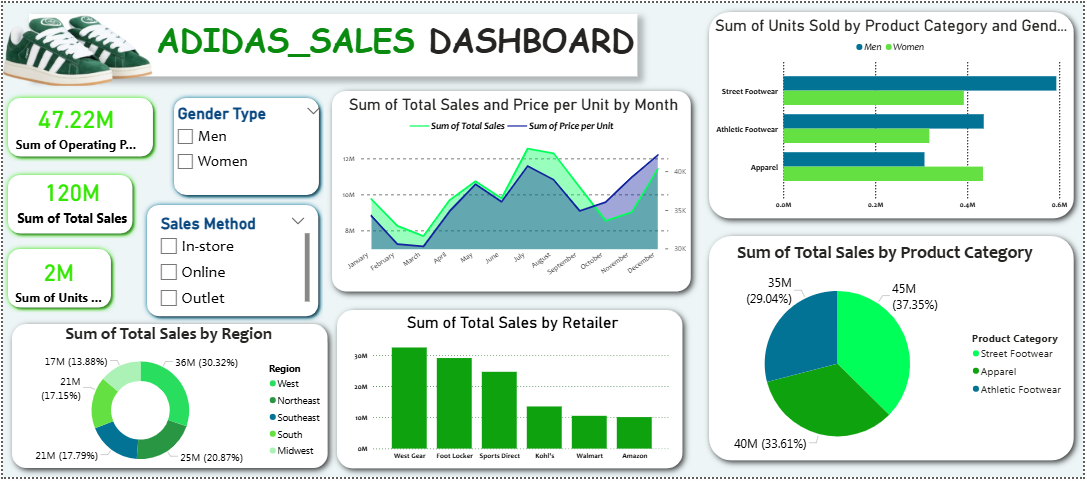

This screenshot's page, from the dashboard's own definition file:
{"tool":"powerbi","page":{"name":"Page 1","canvas":[1800,790],"ordinal":0},"visuals":[{"type":"textbox","box":[44,18,1014,104],"z":0},{"type":"shape","box":[534,132,628,364],"z":1000},{"type":"shape","box":[0,520,556,270],"z":2000},{"type":"shape","box":[1162,374,638,404],"z":3000},{"type":"shape","box":[542,496,606,294],"z":4000},{"type":"shape","box":[1162,0,638,374],"z":5000},{"type":"image","box":[0,0,250,154],"z":6000},{"type":"areaChart","title":"Sum of Total Sales and Price per Unit by Month","fields":{"Category":["Adidas_Sales.Invoice Date.Variation.Date Hierarchy.Month"],"Y":["Sum(Adidas_Sales.Total Sales)"],"Y2":["Sum(Adidas_Sales.Price per Unit)"]},"box":[556,154,588,320],"z":7000},{"type":"pieChart","fields":{"Category":["Adidas_Sales.Product Category"],"Y":["Sum(Adidas_Sales.Total Sales)"]},"box":[1162,396,616,378],"z":8000},{"type":"clusteredColumnChart","fields":{"Category":["Adidas_Sales.Retailer"],"Y":["Sum(Adidas_Sales.Total Sales)"]},"box":[580,516,538,254],"z":9000},{"type":"donutChart","fields":{"Y":["Sum(Adidas_Sales.Total Sales)"],"Category":["Adidas_Sales.Region"]},"box":[10,534,532,256],"z":10000},{"type":"clusteredBarChart","fields":{"Category":["Adidas_Sales.Product Category"],"Y":["Sum(Adidas_Sales.Units Sold)"],"Series":["Adidas_Sales.Gender Type"]},"box":[1182,22,598,330],"z":11000},{"type":"shape","box":[0,150,258,114],"z":12000},{"type":"shape","box":[0,278,224,114],"z":13000},{"type":"shape","box":[0,402,188,114],"z":14000},{"type":"card","fields":{"Values":["Sum(Adidas_Sales.Total Sales)"]},"box":[0,278,230,98],"z":15000},{"type":"card","fields":{"Values":["Sum(Adidas_Sales.Units Sold)"]},"box":[12,414,162,92],"z":16000},{"type":"card","fields":{"Values":["Sum(Adidas_Sales.Operating Profit)"]},"box":[12,150,220,106],"z":17000},{"type":"shape","box":[276,150,258,178],"z":18000},{"type":"slicer","fields":{"Values":["Adidas_Sales.Gender Type"]},"box":[278.3,163.3,263.3,150],"z":19000},{"type":"shape","box":[232,328,302,202],"z":20000},{"type":"slicer","fields":{"Values":["Adidas_Sales.Sales Method"]},"box":[250,346,266,168],"z":21000}]}

Visuals, with their boxes in screenshot pixels (x1, y1, x2, y2), scaled from the page's 1800x790 canvas onto the 1087x481 screenshot:
textbox: [x1=27, y1=11, x2=639, y2=74]
shape: [x1=322, y1=80, x2=702, y2=302]
shape: [x1=0, y1=317, x2=336, y2=480]
shape: [x1=702, y1=228, x2=1086, y2=474]
shape: [x1=327, y1=302, x2=693, y2=480]
shape: [x1=702, y1=0, x2=1086, y2=228]
image: [x1=0, y1=0, x2=151, y2=94]
"Sum of Total Sales and Price per Unit by Month" areaChart: [x1=336, y1=94, x2=691, y2=289]
pieChart - Adidas_Sales.Product Category x Sum(Adidas_Sales.Total Sales): [x1=702, y1=241, x2=1074, y2=471]
clusteredColumnChart - Adidas_Sales.Retailer x Sum(Adidas_Sales.Total Sales): [x1=350, y1=314, x2=675, y2=469]
donutChart - Sum(Adidas_Sales.Total Sales) x Adidas_Sales.Region: [x1=6, y1=325, x2=327, y2=480]
clusteredBarChart - Adidas_Sales.Product Category x Sum(Adidas_Sales.Units Sold): [x1=714, y1=13, x2=1075, y2=214]
shape: [x1=0, y1=91, x2=156, y2=161]
shape: [x1=0, y1=169, x2=135, y2=239]
shape: [x1=0, y1=245, x2=114, y2=314]
card - Sum(Adidas_Sales.Total Sales): [x1=0, y1=169, x2=139, y2=229]
card - Sum(Adidas_Sales.Units Sold): [x1=7, y1=252, x2=105, y2=308]
card - Sum(Adidas_Sales.Operating Profit): [x1=7, y1=91, x2=140, y2=156]
shape: [x1=167, y1=91, x2=322, y2=200]
slicer - Adidas_Sales.Gender Type: [x1=168, y1=99, x2=327, y2=191]
shape: [x1=140, y1=200, x2=322, y2=323]
slicer - Adidas_Sales.Sales Method: [x1=151, y1=211, x2=312, y2=313]
